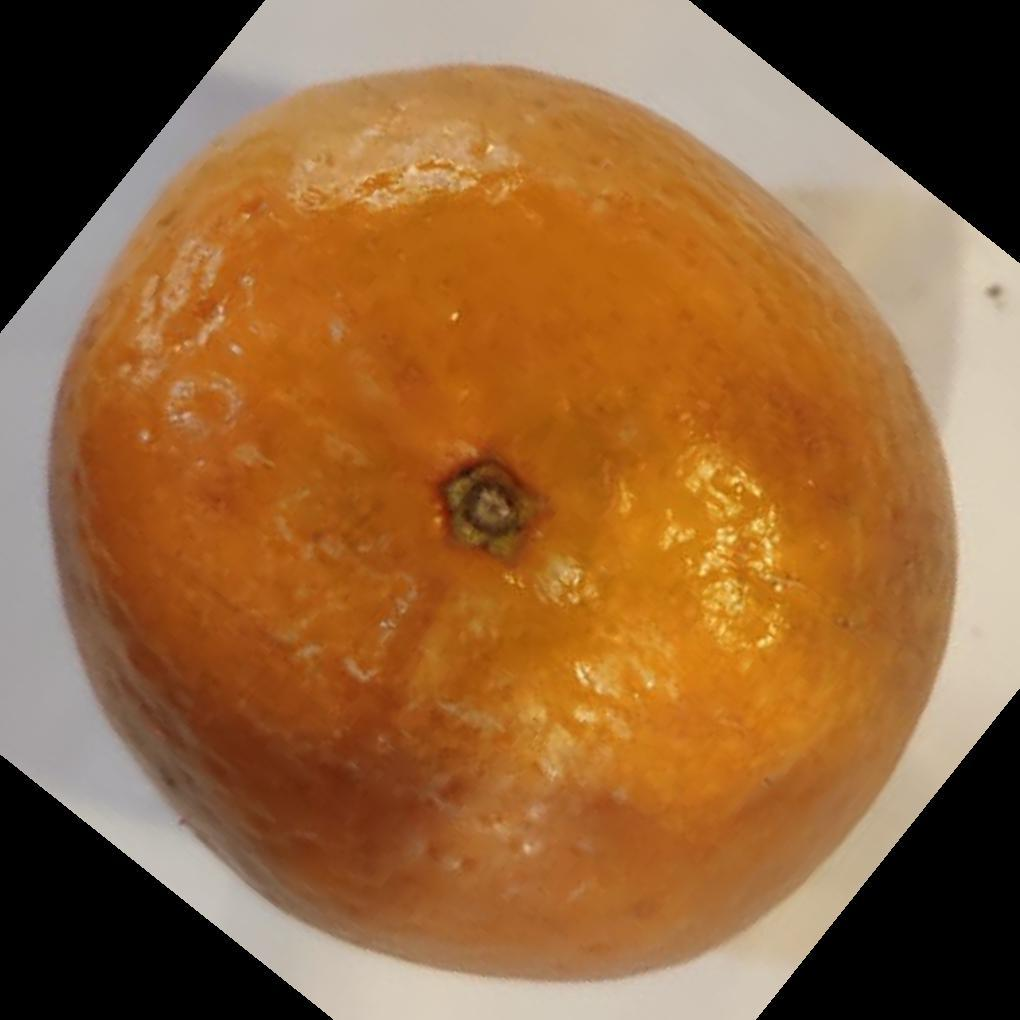FreshOrange: (40, 64, 962, 986)
